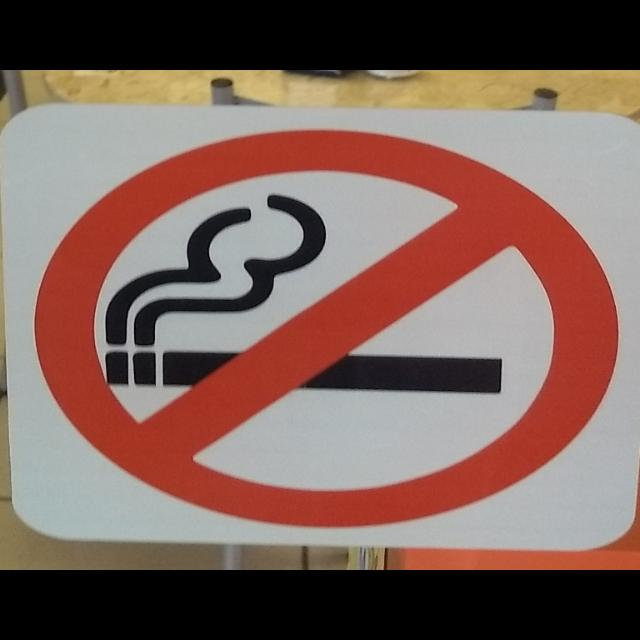cam hut thuoc: (33, 129, 618, 528)
